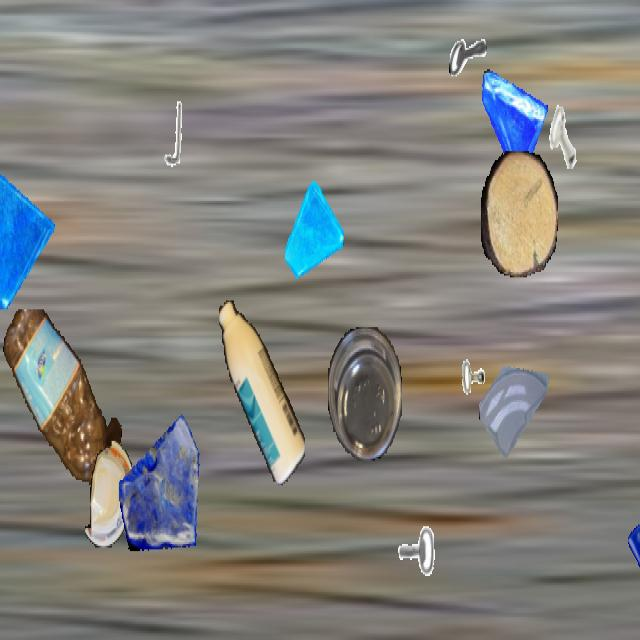glass: (119, 404, 205, 556), (479, 336, 551, 464), (478, 64, 548, 188), (0, 158, 54, 308), (285, 182, 343, 284), (624, 489, 640, 638)
metal: (538, 92, 590, 185), (387, 522, 437, 612), (446, 355, 494, 441), (152, 98, 192, 169), (449, 21, 487, 89)
plastic: (0, 310, 124, 483), (219, 300, 305, 486), (328, 327, 402, 459), (85, 441, 135, 547)
wood: (481, 151, 557, 276)
